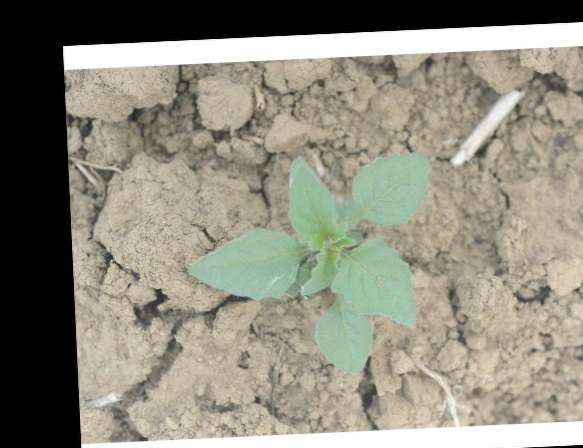nightshade: (189, 153, 432, 378)
